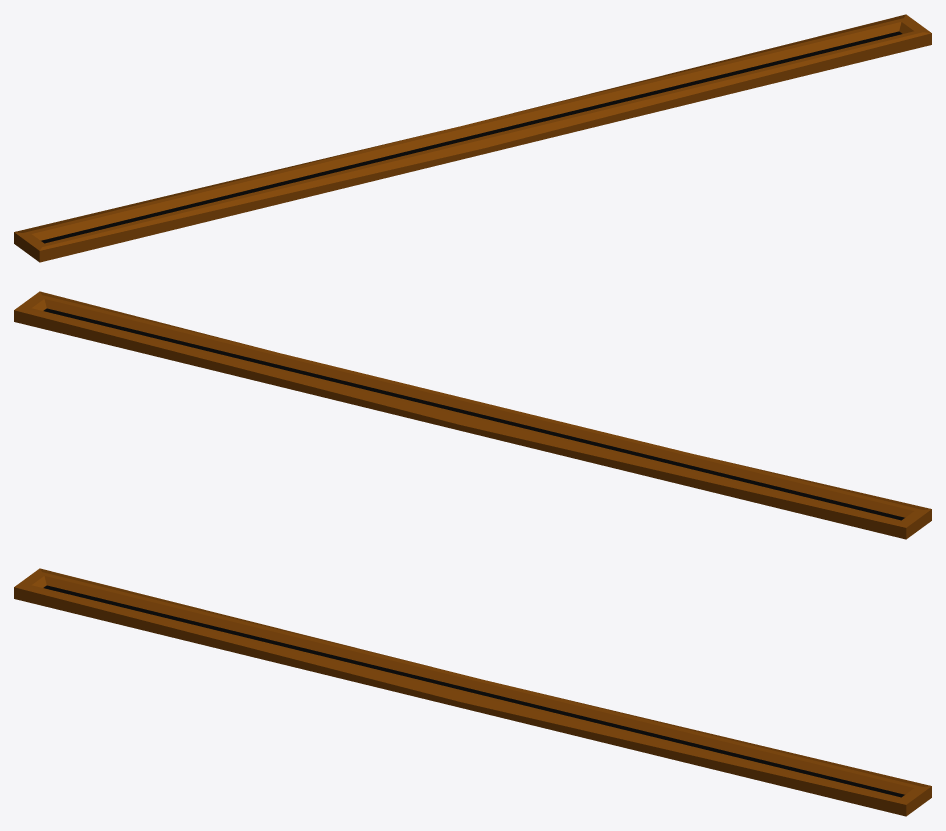
File: Sawblade Slit.glb
The picture shows the model from 3 angles, top to bottom: view 1: azimuth 30°, elevation 25°; view 2: azimuth 150°, elevation 25°; view 3: azimuth 330°, elevation 25°; orthographic projection.
Visible parts, largest first — view 1: Sawblade slit; view 2: Sawblade slit; view 3: Sawblade slit.
Boxes of the visible parts, box(x1,y1,x2,y2) form: Sawblade slit: box(14, 14, 931, 262); Sawblade slit: box(14, 291, 931, 539); Sawblade slit: box(14, 568, 931, 816).
Size of the model in its own units: 8 by 0.1 by 0.4.
